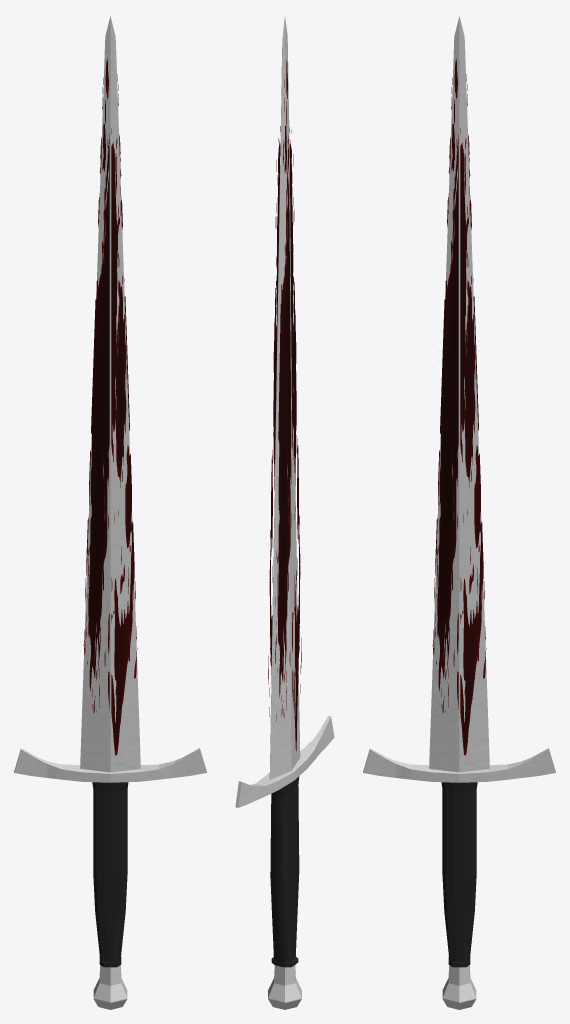
Rendered from Arming Sword.fbx.
The picture shows the model from 3 angles, left to right: view 1: azimuth 90°, elevation 25°; view 2: azimuth 150°, elevation 25°; view 3: azimuth 270°, elevation 25°; orthographic projection.
Parts seen in each view (by area): view 1: Blade1.001, Blade3.001, Leather1.002, Metal2.002, Metal1.002, Blade4.001; view 2: Blade1.001, Blade3.001, Leather1.002, Metal2.002, Blade4.001, Metal1.002; view 3: Blade1.001, Blade4.001, Leather1.002, Metal2.002, Metal1.002, Blade3.001.
Boxes of the visible parts, x1,y1,x2,y2 form: Blade1.001: (80,16,140,772); Blade3.001: (84,58,137,755); Leather1.002: (92,782,128,967); Metal2.002: (14,748,206,782); Metal1.002: (93,965,127,1009); Blade4.001: (83,74,136,649); Blade1.001: (269,17,300,779); Blade3.001: (275,59,301,751); Leather1.002: (270,776,299,967); Metal2.002: (235,716,334,807); Blade4.001: (268,126,280,684); Metal1.002: (268,965,301,1009); Blade1.001: (429,16,489,772); Blade4.001: (433,58,486,755); Leather1.002: (441,782,477,967); Metal2.002: (363,748,555,782); Metal1.002: (442,965,476,1009); Blade3.001: (432,74,485,649).
Size of the model in its own units: 21.47 by 603 by 106.
